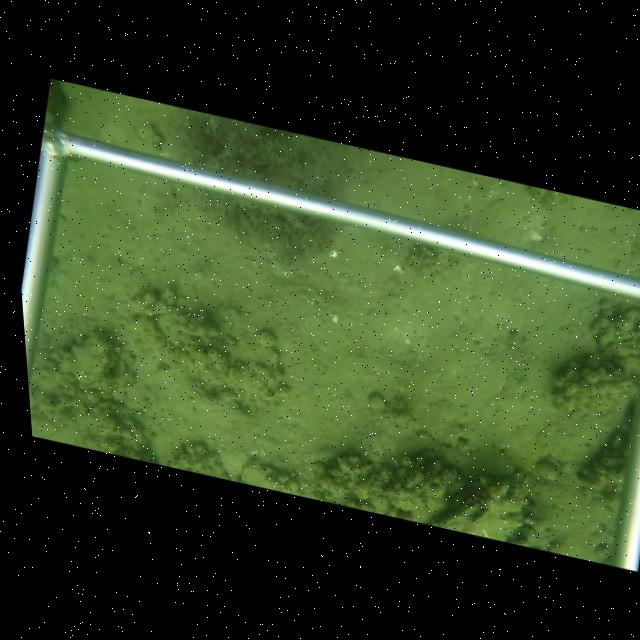Oyster-Closed: (70, 332, 118, 386), (433, 495, 485, 528)
